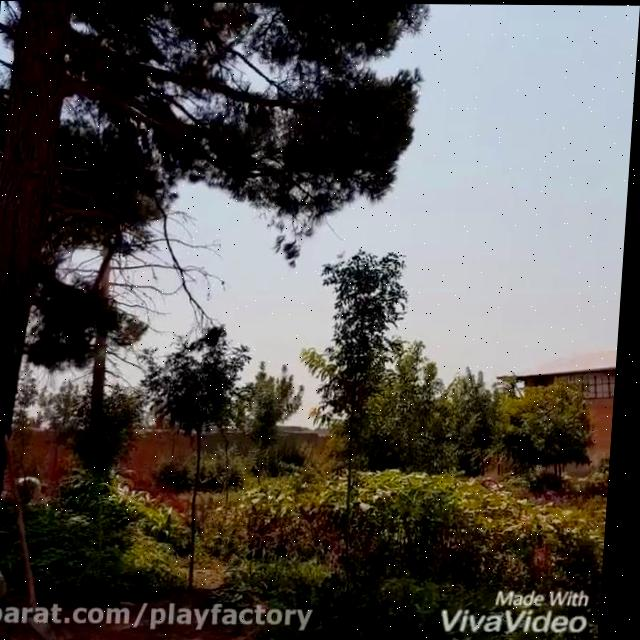drone: (336, 241, 354, 259)
